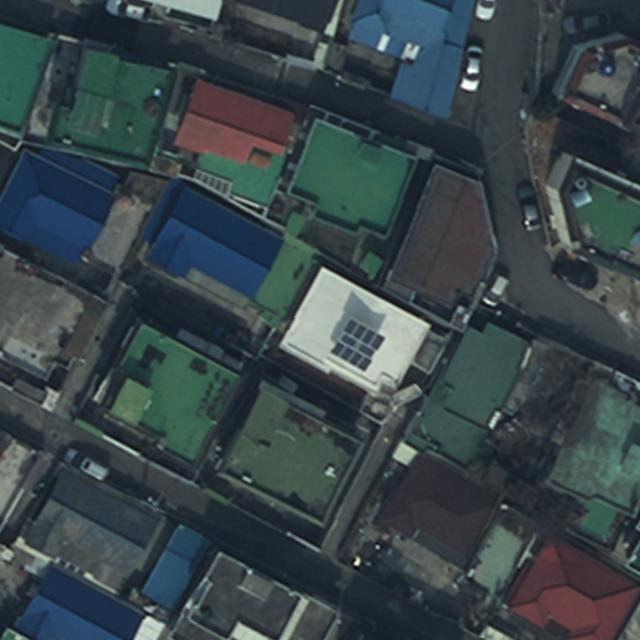panel: (330, 318, 386, 371)
